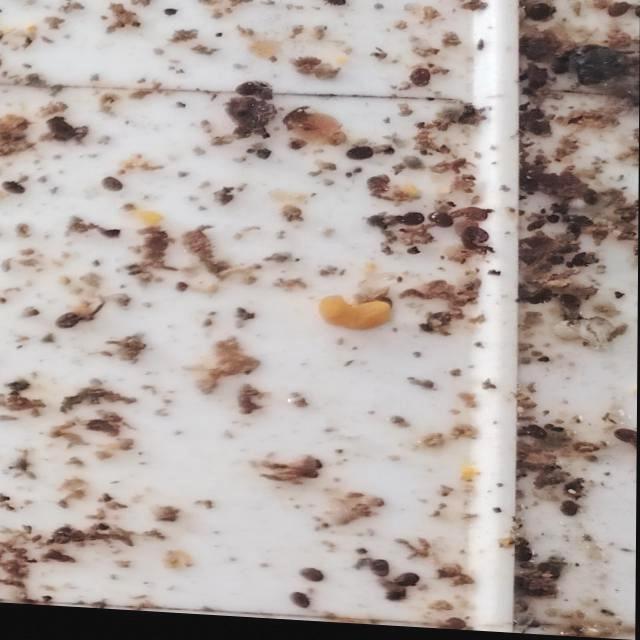varroa: (526, 5, 553, 26), (55, 318, 82, 338), (234, 86, 267, 102), (345, 148, 372, 166), (393, 575, 420, 592), (428, 214, 455, 231), (409, 72, 430, 93), (97, 183, 122, 200), (298, 572, 324, 588), (385, 588, 408, 606), (511, 547, 533, 565), (526, 426, 548, 444), (613, 429, 637, 445), (369, 562, 388, 582), (289, 596, 310, 614), (558, 295, 580, 312), (399, 215, 423, 230), (465, 230, 487, 246), (558, 501, 578, 518), (581, 190, 597, 208)
